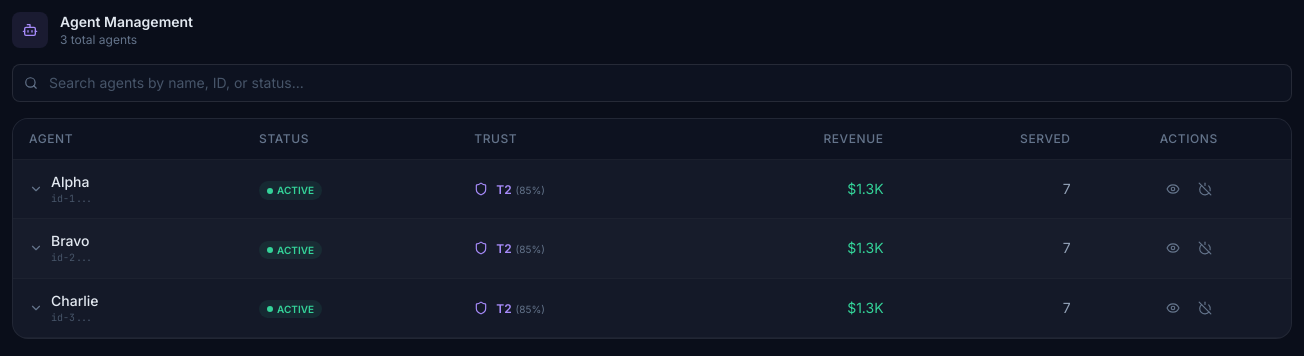
AgentManagement › filters agents by search term on name
Step 1. Type "bravo" into the field with placeholder "Search agents by name, ID, or status..." → (652, 83), box [12,64,1292,102]
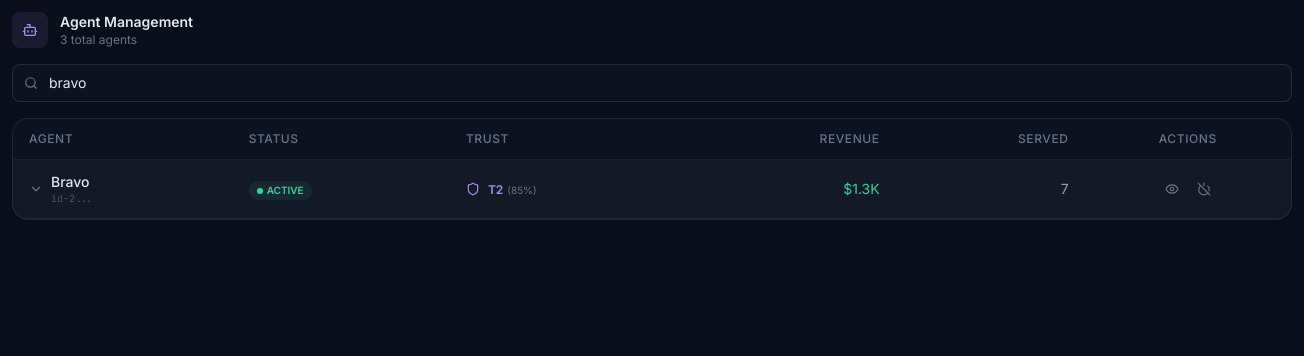
Expected: the text "Bravo" is shown, [51,172,93,192]
Expected: the text "Alpha" is gone
Expected: the text "Charlie" is gone
